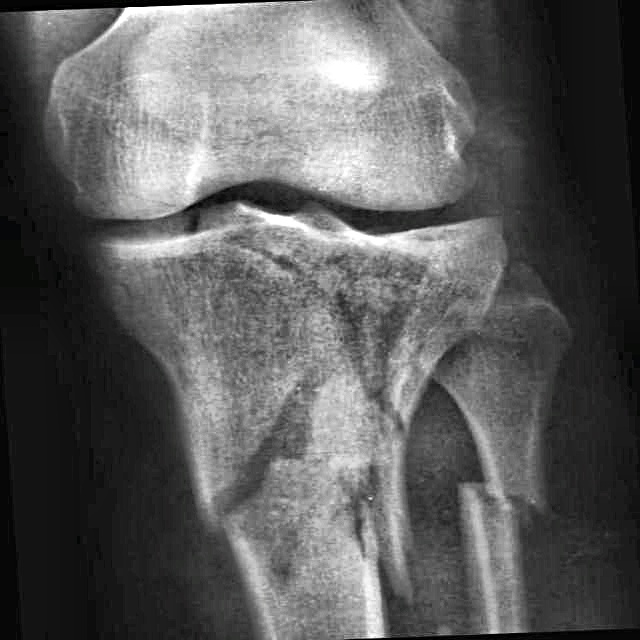Oblique Displaced: (195, 371, 413, 592)
Transverse Displaced: (430, 459, 591, 537)
